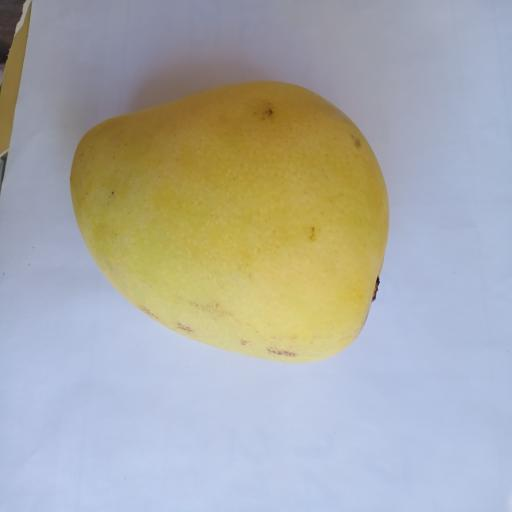mango-ripe: (59, 68, 410, 378)
